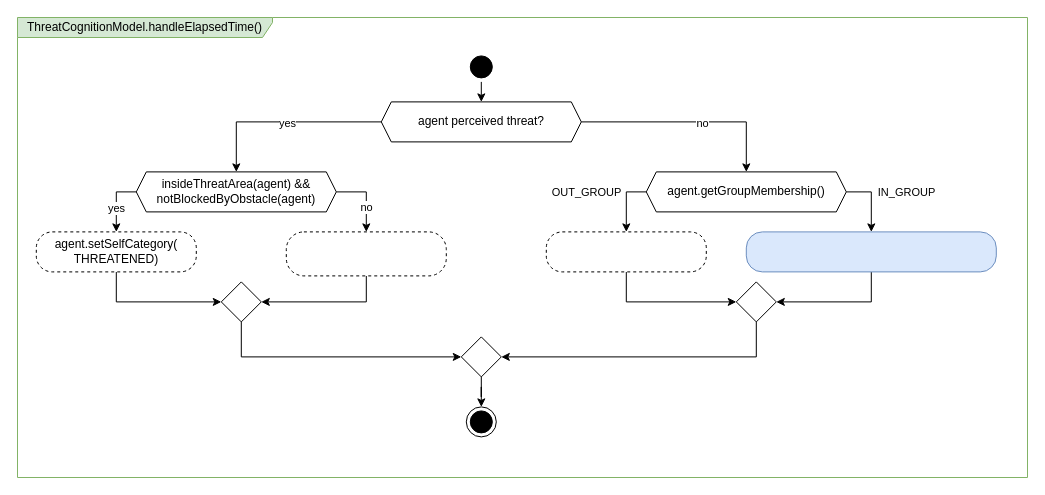
The diagram is 1045 pixels wide and 495 high, and some of its shapes have lost their labels. The shapes that lost their labels are listed below. From the top down, each one's centre as x and y in pixels, then its label:
At pixel 365 253: "agent.setSelfCategory( COMMON_FATE)".
At pixel 625 251: "agent.setSelfCategory( TARGET_ORIENTED)".
At pixel 870 251: "imitateThreatenedNeighborIfPresent(agent)".
